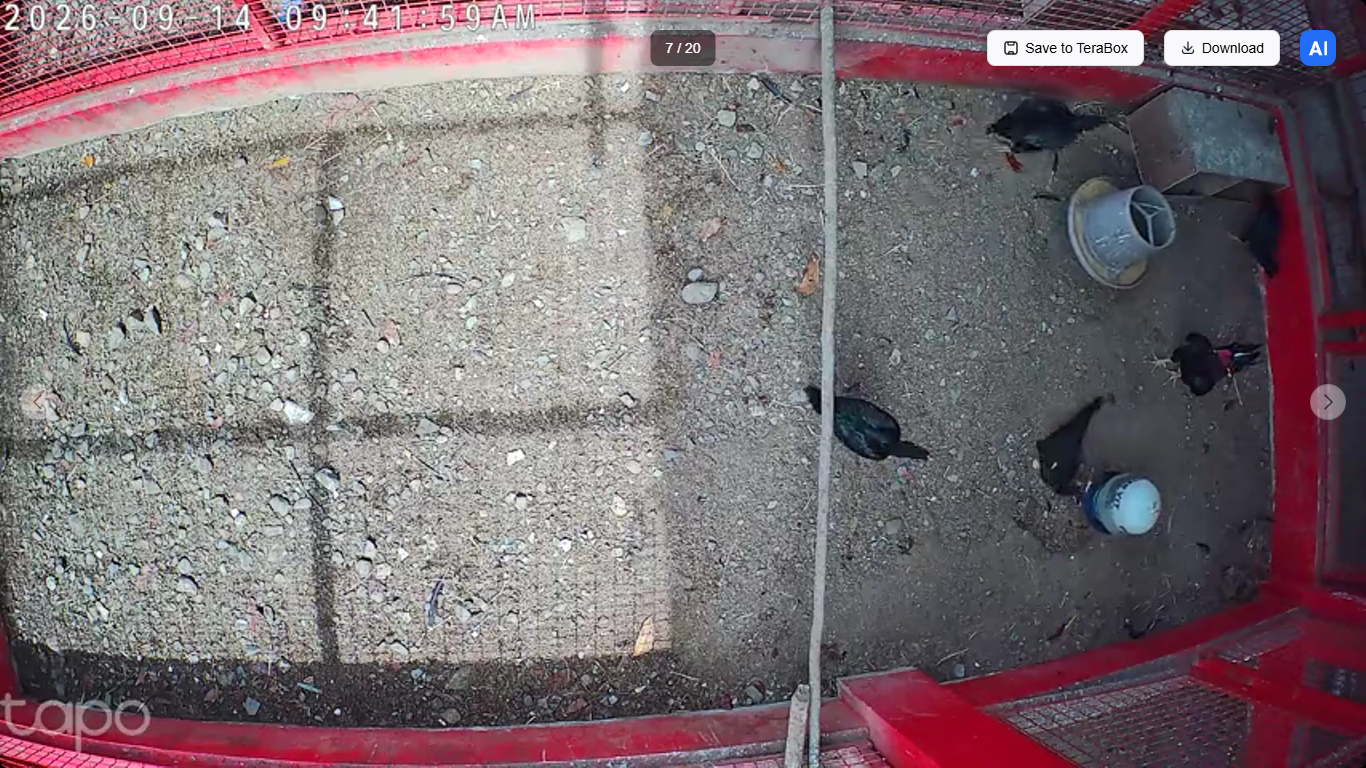Chicken: (802, 384, 936, 466), (1027, 393, 1110, 500), (981, 94, 1117, 158)
Rooster: (1141, 329, 1267, 397)
